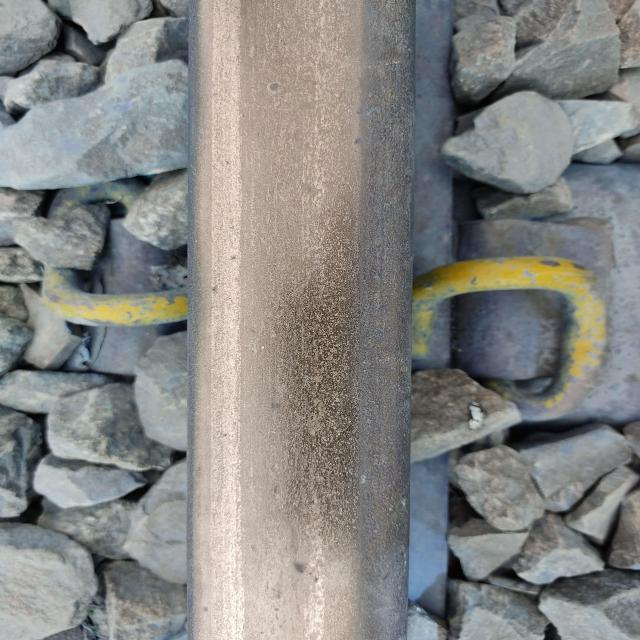Good Fasteners: (412, 231, 640, 411), (2, 189, 193, 378)
